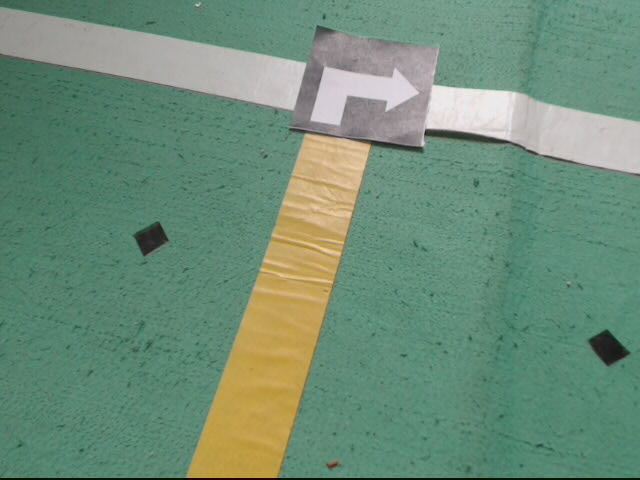right: (291, 25, 443, 148)
